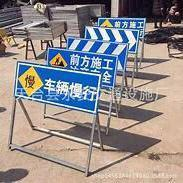sign: (14, 64, 100, 110), (45, 50, 118, 86), (97, 18, 145, 38)
